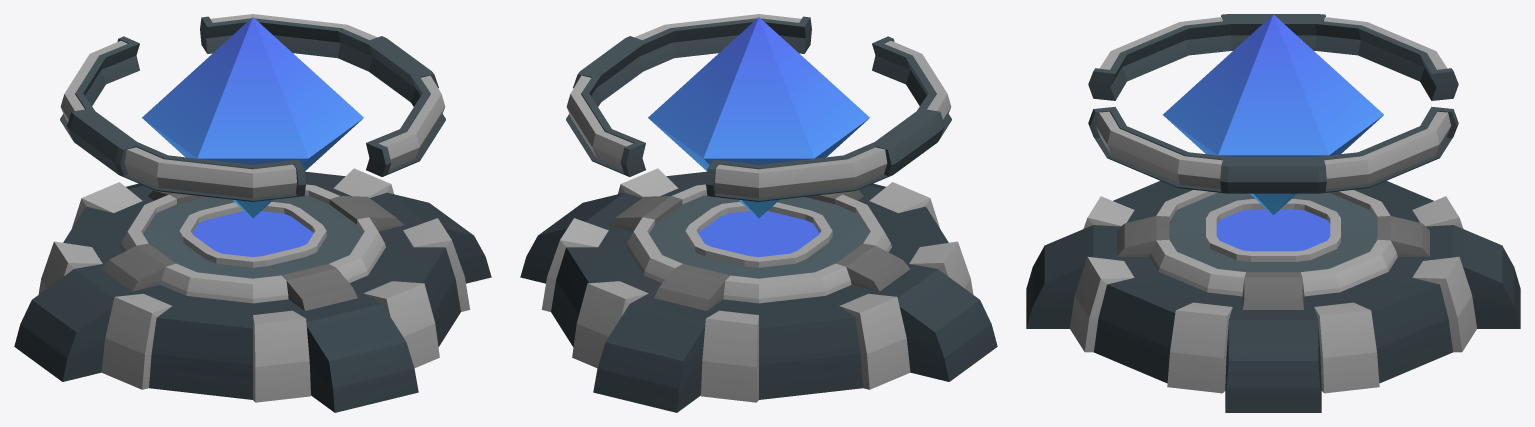
Rendered from ShieldGenerator.obj.
3 views of the same model, side by side, from view 1: azimuth 30°, elevation 25°; view 2: azimuth 150°, elevation 25°; view 3: azimuth 270°, elevation 25° (orthographic).
Visible parts, largest first — view 1: ShieldGenerator; view 2: ShieldGenerator; view 3: ShieldGenerator.
Part boxes in pixels (box(x1,y1,x2,y2)): ShieldGenerator: box(14, 14, 491, 412); ShieldGenerator: box(520, 14, 997, 412); ShieldGenerator: box(1026, 14, 1520, 412).
Bounding box in the file's own units: 28 × 18.4 × 28.
